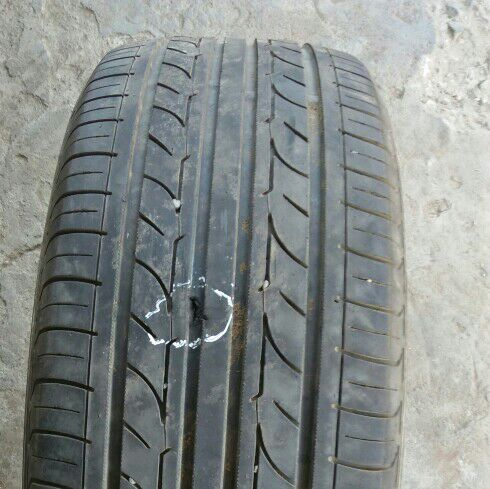tr: (181, 289, 210, 334)
